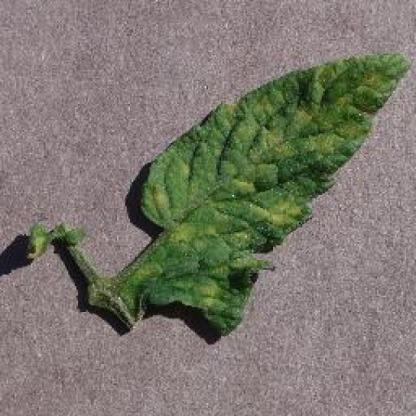Tomato_Leaf_Mold: (140, 53, 411, 334)
